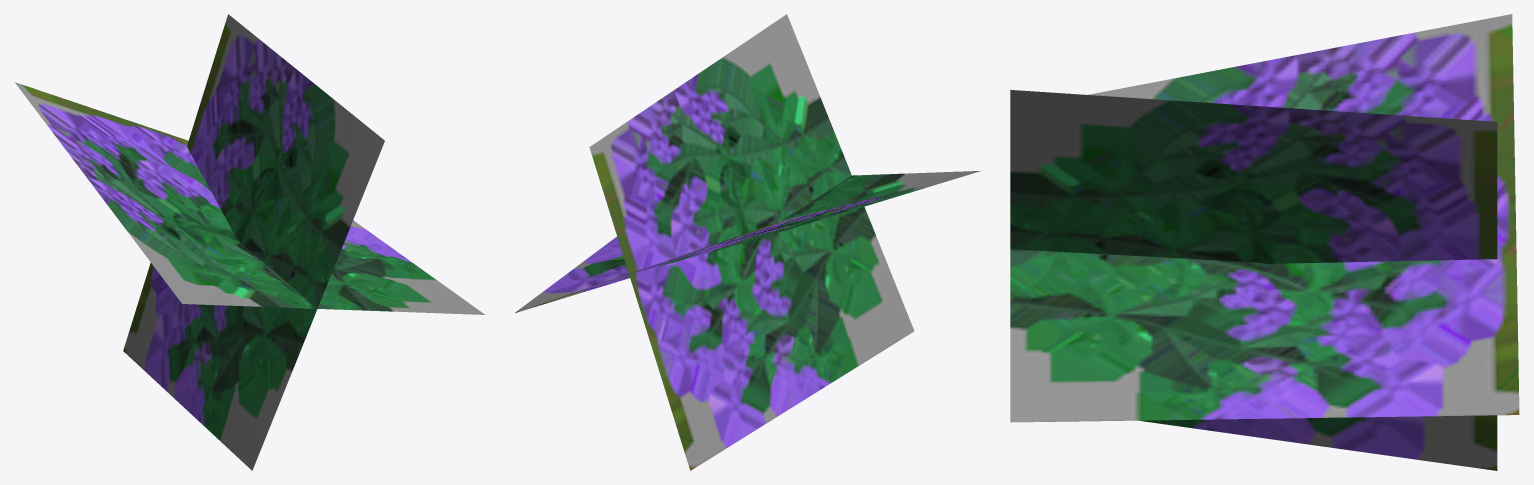
The model's file is Flower2.FBX.
3 renders of one model, left to right at view 1: azimuth 30°, elevation 25°; view 2: azimuth 150°, elevation 25°; view 3: azimuth 270°, elevation 25°, orthographic. The views are drawn at different scales.
Parts seen in each view (by area): view 1: Flower2; view 2: Flower2; view 3: Flower2.
Boxes of the visible parts, x1,y1,x2,y2 form: Flower2: (15,14,484,470); Flower2: (515,14,981,470); Flower2: (1010,14,1519,470).
Size of the model in its own units: 1.01 by 1.03 by 1.1.
